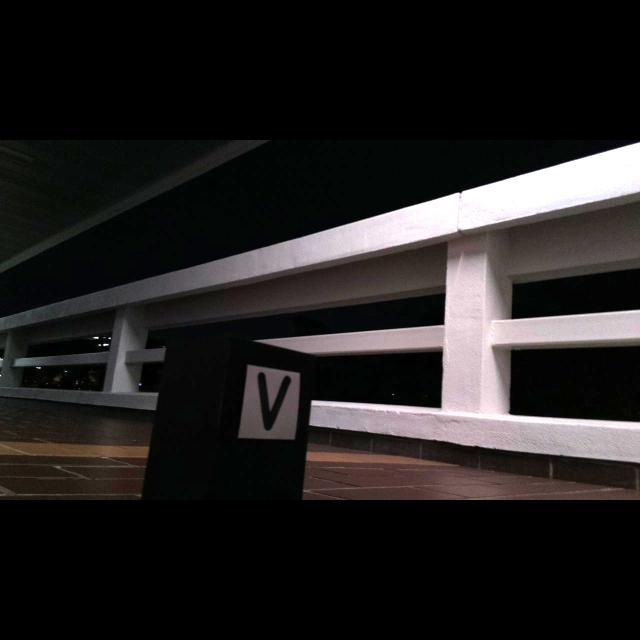V: (258, 372, 291, 430)
